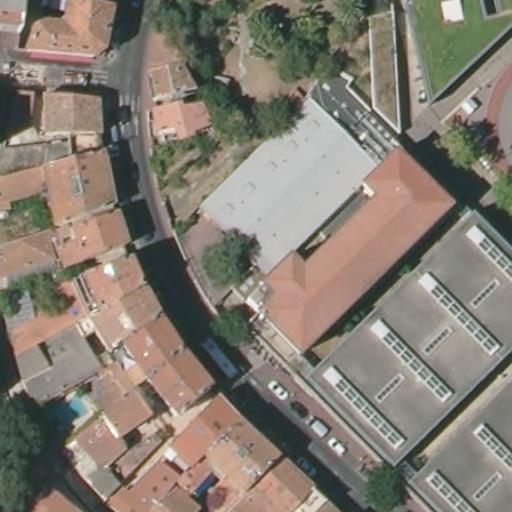pool: (34, 388, 92, 432)
